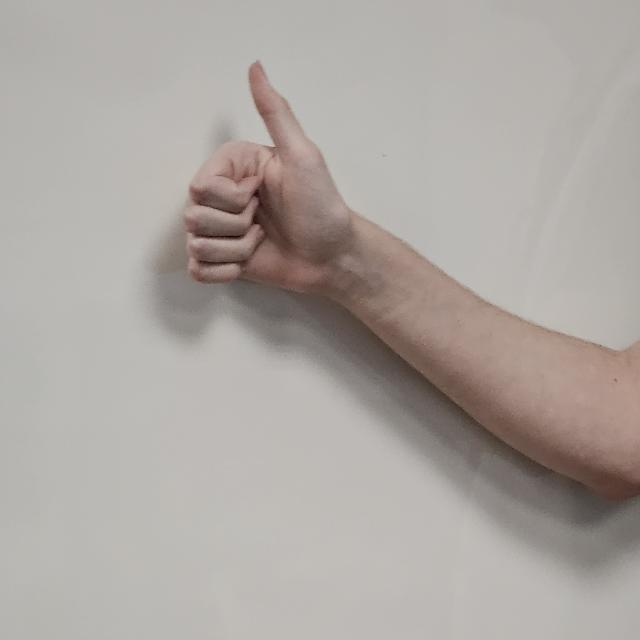Start: (184, 62, 362, 344)
